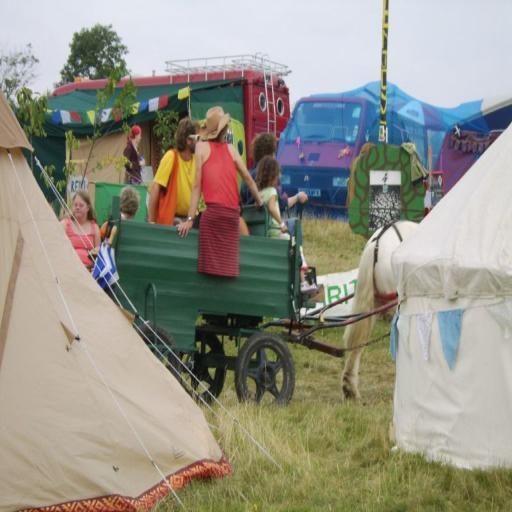Horse: (337, 218, 420, 404)
